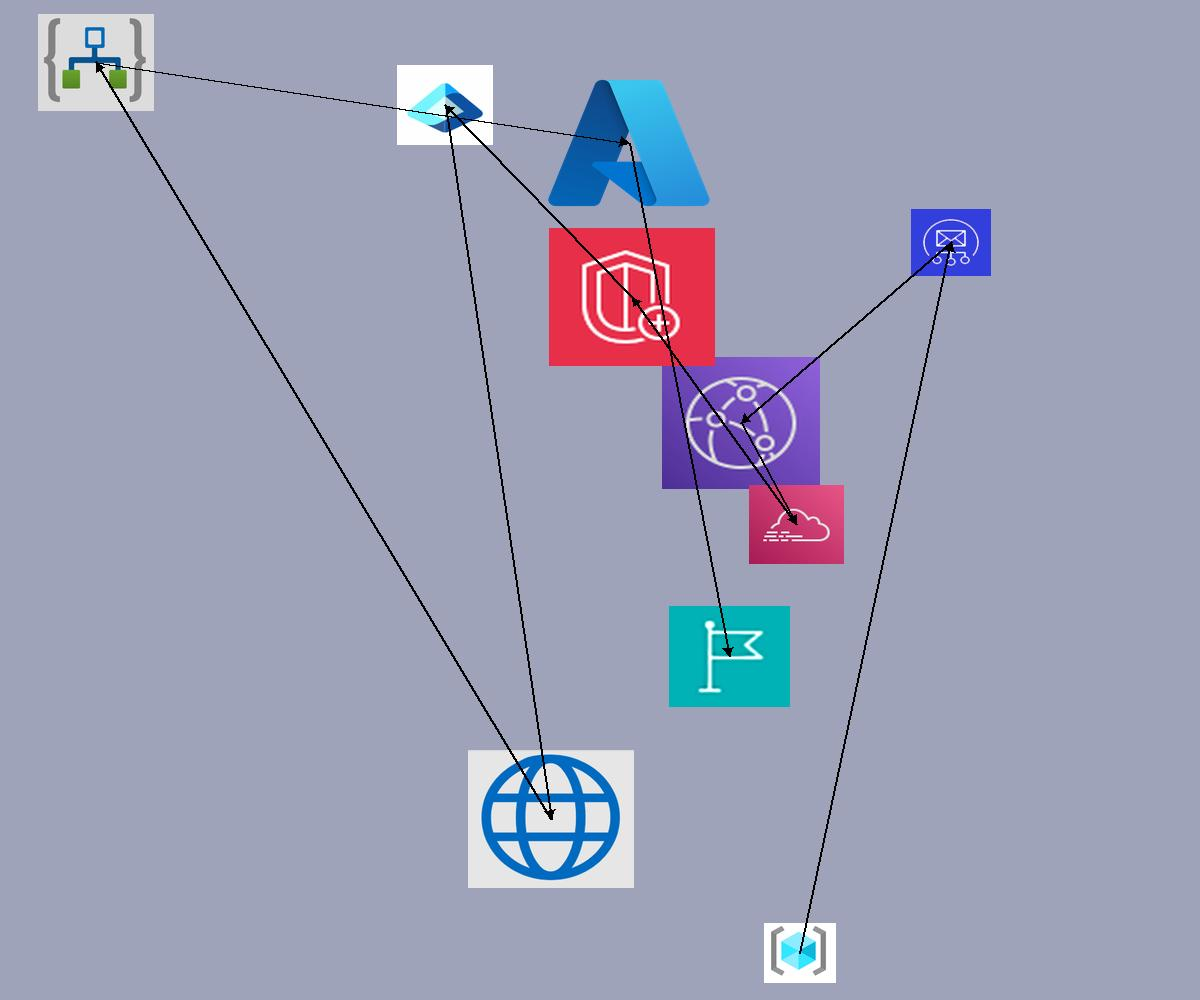AWS-CloudFront: (662, 357, 820, 489)
AWS-CloudTrail: (749, 485, 844, 564)
AWS-Region: (669, 606, 790, 707)
AWS-Shield: (549, 228, 715, 366)
AWS-Simple-Email-Service: (911, 209, 991, 276)
Azure_http: (468, 750, 634, 888)
Azure_integration-204-Logic-Apps: (38, 14, 154, 111)
Azure_microsoft_entra: (397, 65, 493, 145)
Azure_resource_group: (764, 923, 836, 983)
Azure_services: (541, 70, 717, 216)
